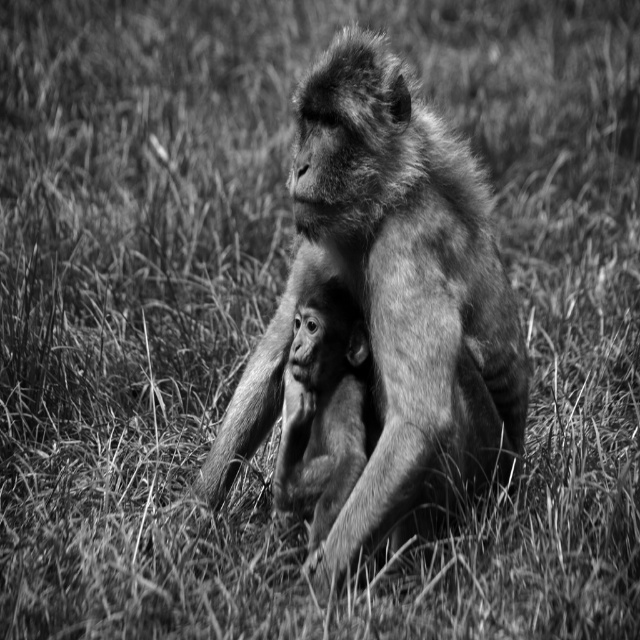Monkey: (191, 16, 529, 584), (273, 282, 372, 554)
